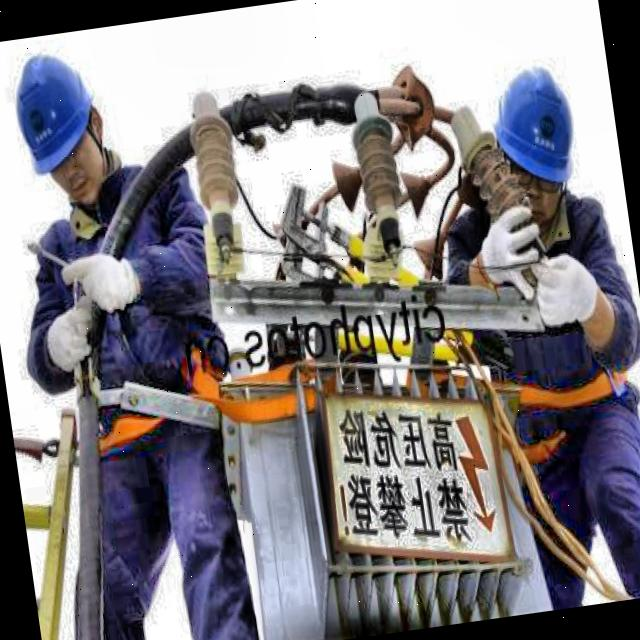helmet: (0, 36, 120, 225), (475, 48, 591, 238)
